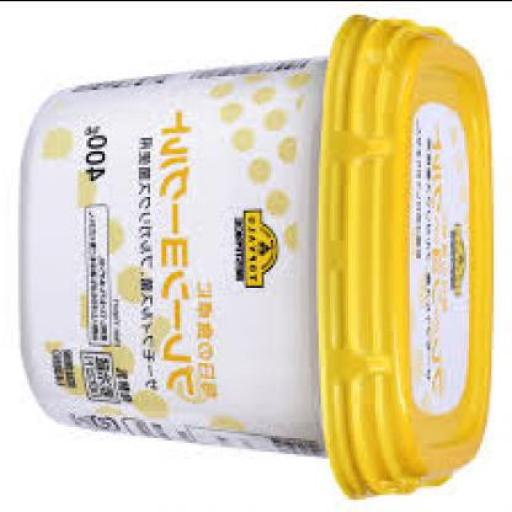plastic: (24, 16, 494, 506), (321, 16, 496, 503)
